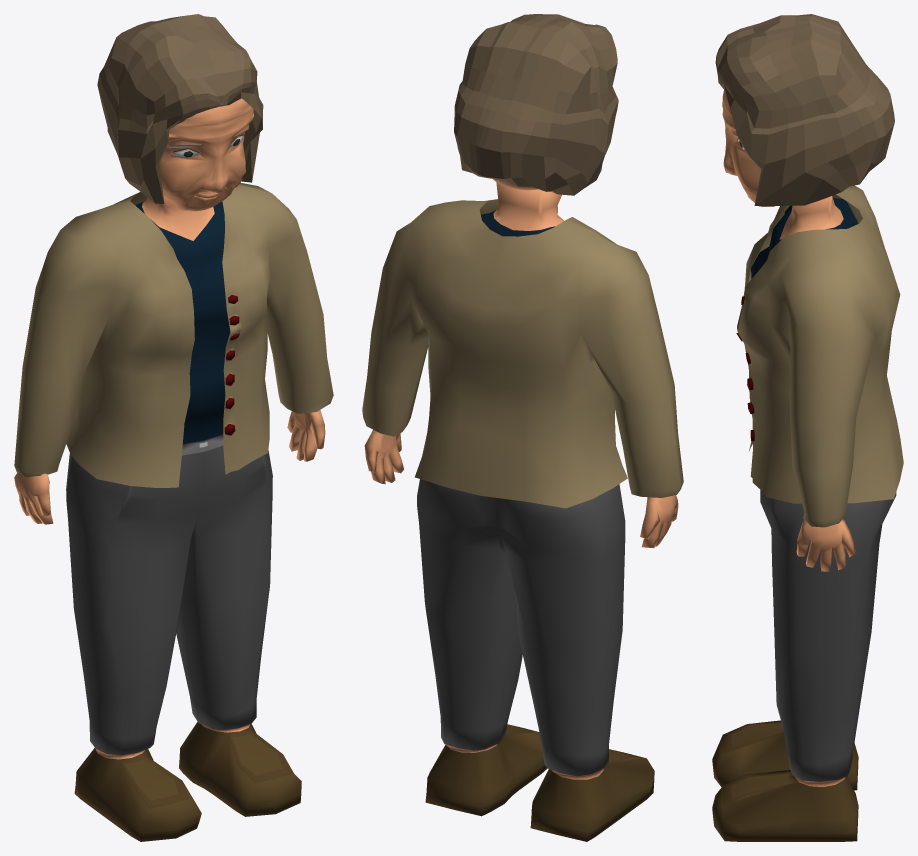
Rendered from senior.glb.
The picture shows the model from 3 angles, left to right: view 1: azimuth 30°, elevation 25°; view 2: azimuth 150°, elevation 25°; view 3: azimuth 270°, elevation 25°; orthographic projection.
Visible parts, largest first — view 1: P8Body_2, P8Cloth_3, P8Hair_5, P8Face_4; view 2: P8Cloth_3, P8Body_2, P8Hair_5; view 3: P8Cloth_3, P8Body_2, P8Hair_5, P8Face_4.
Boxes of the visible parts, left/top/right/bottom form: P8Body_2: left=14, top=196, right=325, bottom=841; P8Cloth_3: left=14, top=182, right=333, bottom=487; P8Hair_5: left=97, top=14, right=263, bottom=203; P8Face_4: left=159, top=98, right=253, bottom=211; P8Cloth_3: left=362, top=199, right=683, bottom=508; P8Body_2: left=364, top=182, right=678, bottom=841; P8Hair_5: left=454, top=14, right=618, bottom=195; P8Cloth_3: left=736, top=185, right=903, bottom=527; P8Body_2: left=712, top=196, right=896, bottom=841; P8Hair_5: left=715, top=14, right=894, bottom=206; P8Face_4: left=722, top=90, right=775, bottom=206.
Size of the model in its own units: 0.809 by 1.9 by 0.4248.
1 material, 1 textured.
